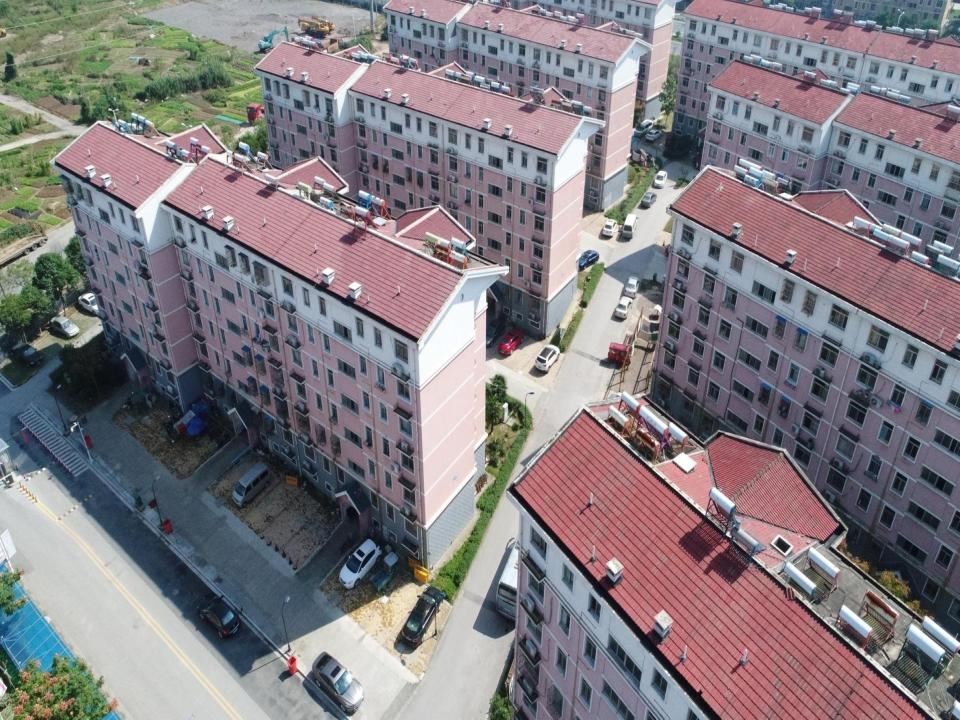car: (312, 644, 364, 714), (402, 586, 446, 648), (197, 588, 240, 640), (339, 539, 383, 588), (534, 343, 561, 375), (11, 341, 42, 367), (498, 329, 524, 356), (484, 318, 506, 349), (50, 315, 79, 338), (578, 245, 599, 271), (78, 294, 99, 316), (614, 297, 634, 320), (622, 275, 640, 298), (603, 216, 617, 238), (641, 192, 657, 208), (653, 170, 667, 188), (646, 128, 662, 141)
truck: (246, 103, 270, 125)
van: (495, 534, 519, 623), (232, 462, 272, 509), (622, 212, 638, 240), (634, 119, 654, 137)
